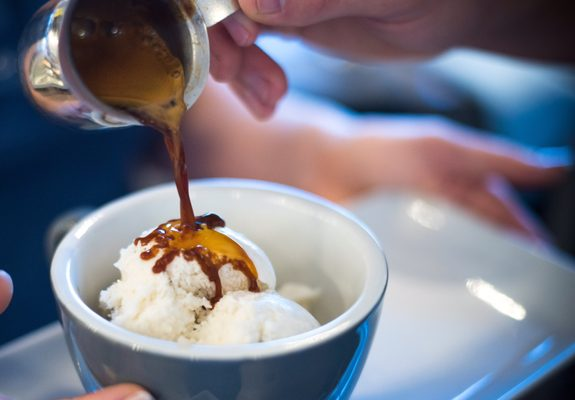sushi: (49, 180, 388, 396)
